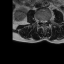CCS_severe_stenosis: (42, 18, 44, 25)
LFS_normal: (46, 18, 48, 24)
LLS_normal: (44, 18, 46, 24)
RFS_normal: (38, 18, 40, 24)
RLS_normal: (40, 18, 42, 24)
